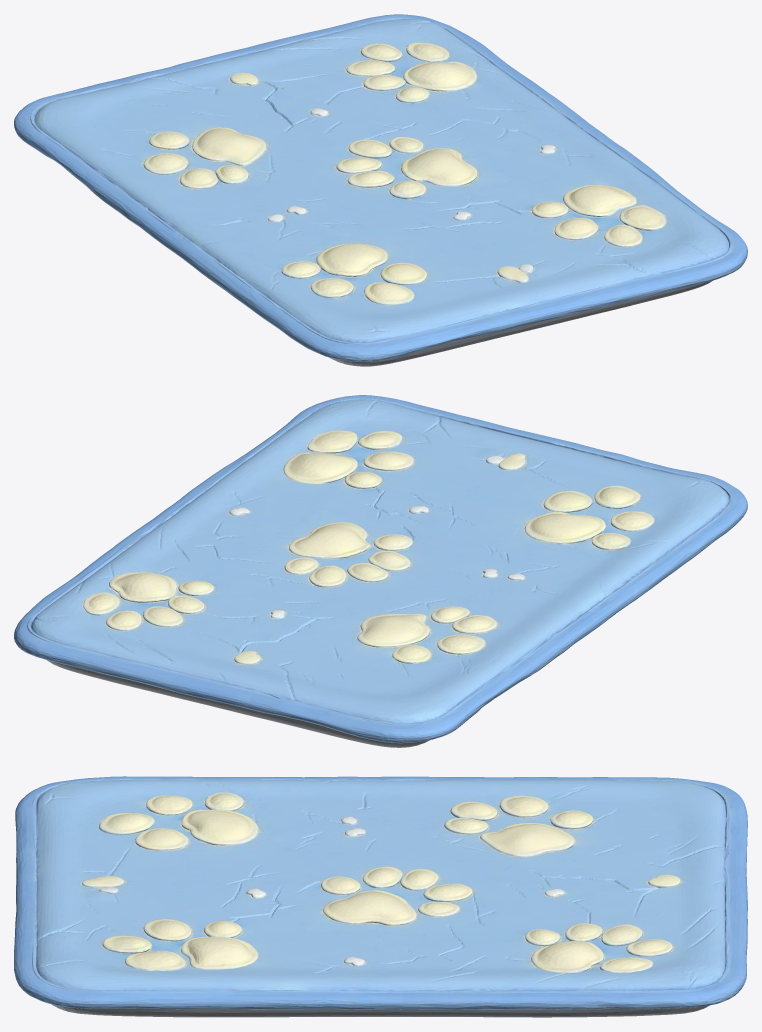
3 views of the same model, one above another, from view 1: azimuth 30°, elevation 25°; view 2: azimuth 150°, elevation 25°; view 3: azimuth 270°, elevation 25° (orthographic). The views are drawn at different scales.
Parts seen in each view (by area): view 1: tripo_node_28232ccd-df71-48f8-b996-cf4e29d32ee1; view 2: tripo_node_28232ccd-df71-48f8-b996-cf4e29d32ee1; view 3: tripo_node_28232ccd-df71-48f8-b996-cf4e29d32ee1.
Boxes of the visible parts, bbox=[...] form: tripo_node_28232ccd-df71-48f8-b996-cf4e29d32ee1: bbox=[14, 14, 747, 366]; tripo_node_28232ccd-df71-48f8-b996-cf4e29d32ee1: bbox=[14, 395, 747, 747]; tripo_node_28232ccd-df71-48f8-b996-cf4e29d32ee1: bbox=[14, 776, 747, 1017].
Size of the model in its own units: 0.7131 by 0.0902 by 0.9799.
Materials: 1 (1 with a texture image).
